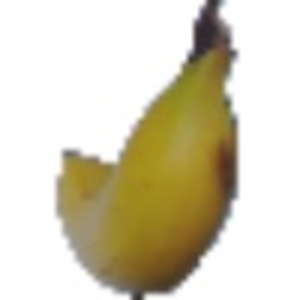banana: (48, 3, 243, 293)
